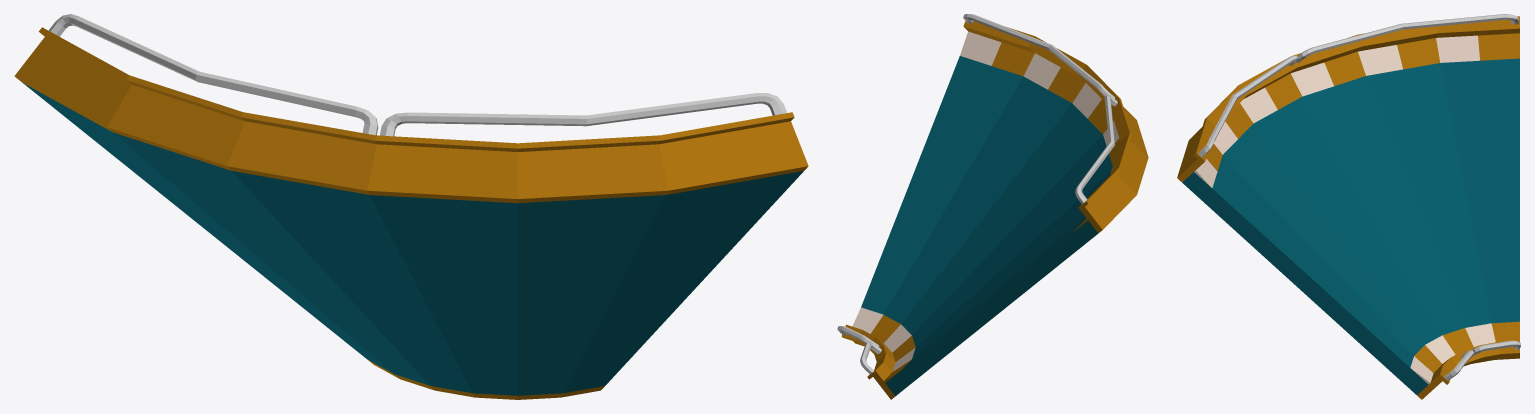
File: bankedRight-90-45_s.FBX
3 views of the same model, side by side, from view 1: azimuth 30°, elevation 25°; view 2: azimuth 150°, elevation 25°; view 3: azimuth 270°, elevation 25° (orthographic). The views are drawn at different scales.
Visible parts, largest first — view 1: bankedRight-90-45, wall_l, wall_r; view 2: bankedRight-90-45, wall_l, curbs_l, curbs_r, wall_r; view 3: bankedRight-90-45, curbs_l, wall_l, curbs_r, wall_r.
Part boxes in pixels (x1,y1,x2,y2): bankedRight-90-45: (22, 82, 803, 395); wall_l: (14, 14, 808, 203); wall_r: (367, 359, 604, 399); bankedRight-90-45: (861, 56, 1112, 396); wall_l: (963, 14, 1148, 233); curbs_l: (960, 31, 1120, 231); curbs_r: (852, 307, 915, 382); wall_r: (837, 324, 895, 399); bankedRight-90-45: (1182, 58, 1519, 394); curbs_l: (1194, 33, 1519, 187); wall_l: (1177, 14, 1519, 182); curbs_r: (1410, 321, 1519, 384); wall_r: (1417, 340, 1520, 399).
Size of what is drawn, in the model's own units: 199 by 163 by 199.
